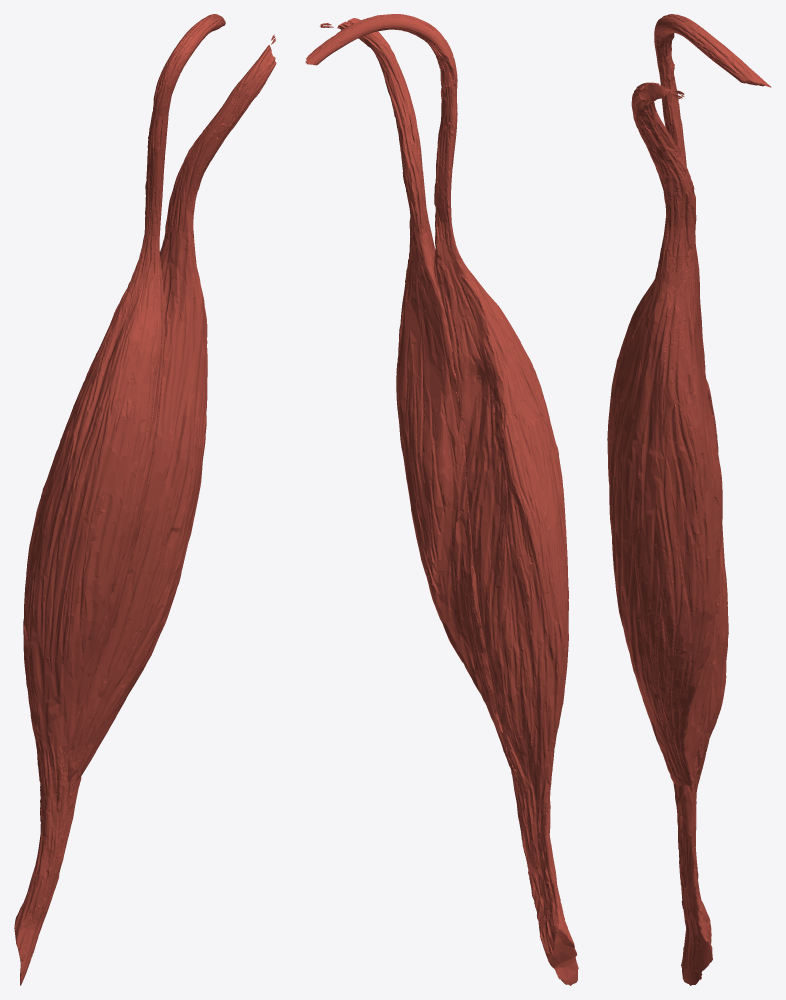
The model's file is biceps.glb.
3 views of the same model, side by side, from view 1: azimuth 30°, elevation 25°; view 2: azimuth 150°, elevation 25°; view 3: azimuth 270°, elevation 25° (orthographic). The views are drawn at different scales.
Parts seen in each view (by area): view 1: biceps; view 2: biceps; view 3: biceps.
Boxes of the visible parts, <box> form: biceps: <box>14,14,276,985</box>; biceps: <box>305,14,578,985</box>; biceps: <box>607,14,771,985</box>.
Bounding box in the file's own units: 101 × 346 × 48.2.
